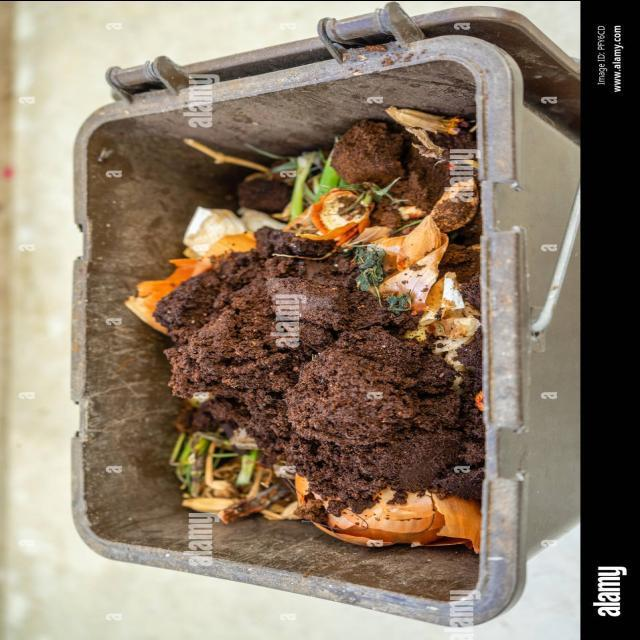Garbage: (126, 106, 484, 551)
